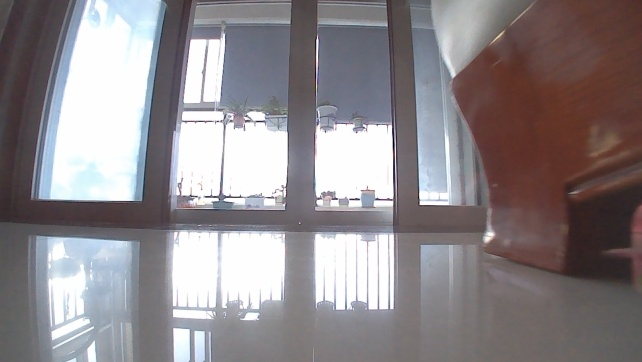sofa1: (426, 0, 641, 276)
